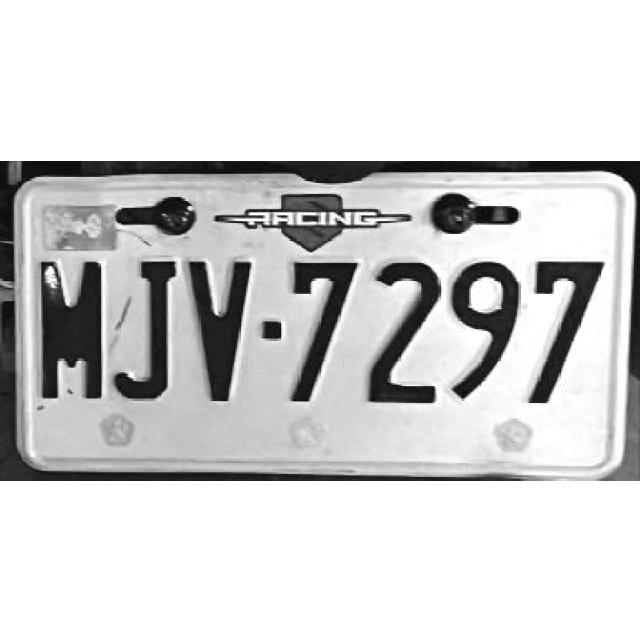-: (260, 318, 282, 340)
2: (364, 252, 442, 406)
7: (528, 255, 608, 412), (291, 257, 360, 405)
9: (448, 257, 522, 400)
J: (115, 256, 180, 402)
M: (36, 256, 104, 398)
V: (188, 257, 255, 397)
